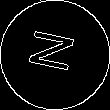N_E: (26, 30, 84, 80)
